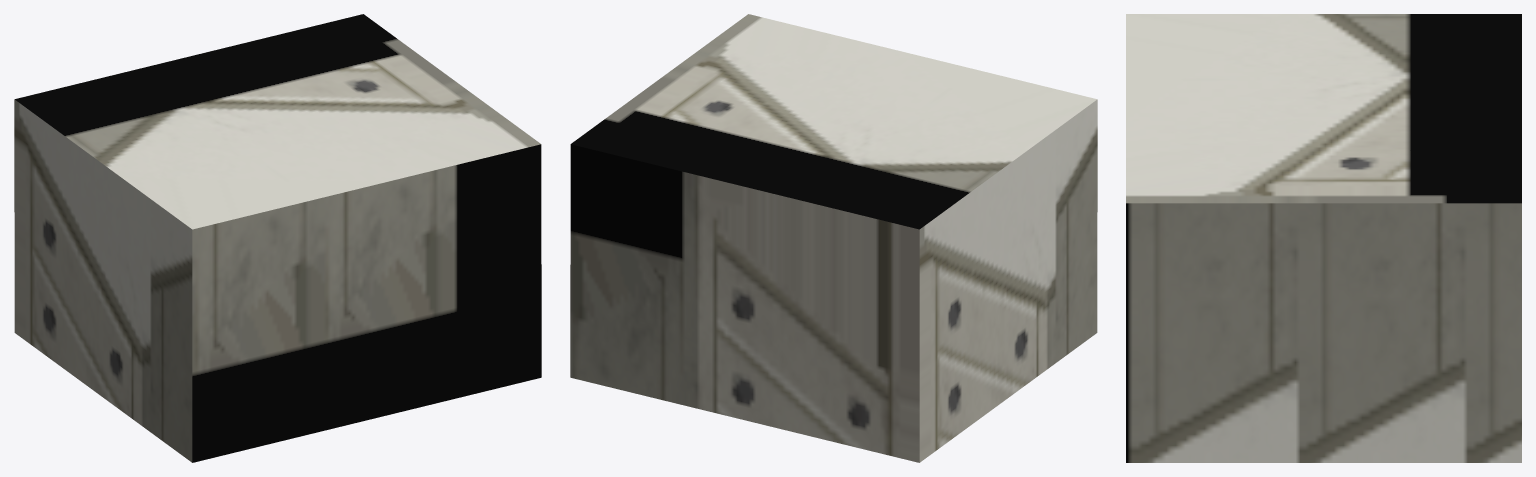
Rendered from pz_house_drawers_white.obj.
3 renders of one model, left to right at view 1: azimuth 30°, elevation 25°; view 2: azimuth 150°, elevation 25°; view 3: azimuth 270°, elevation 25°, orthographic. The views are drawn at different scales.
Parts seen in each view (by area): view 1: pz_house_drawers_white_|_1_corpo_gavetas; view 2: pz_house_drawers_white_|_1_corpo_gavetas; view 3: pz_house_drawers_white_|_1_corpo_gavetas.
Part boxes in pixels (x1=…): pz_house_drawers_white_|_1_corpo_gavetas: x1=14, y1=14, x2=541, y2=462; pz_house_drawers_white_|_1_corpo_gavetas: x1=570, y1=14, x2=1097, y2=462; pz_house_drawers_white_|_1_corpo_gavetas: x1=1126, y1=14, x2=1521, y2=462.
Bounding box in the file's own units: 0.9274 × 0.5929 × 0.8186.
